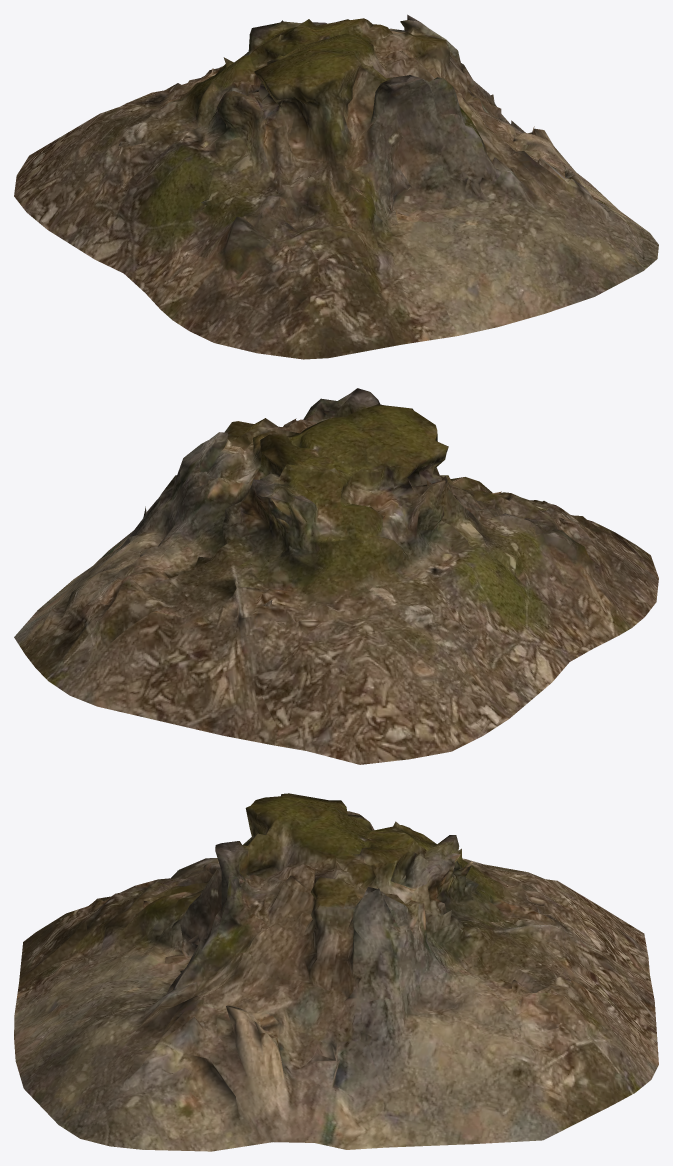
The model's file is tree_stump_01.glb.
The picture shows the model from 3 angles, top to bottom: view 1: azimuth 30°, elevation 25°; view 2: azimuth 150°, elevation 25°; view 3: azimuth 270°, elevation 25°; orthographic projection. The views are drawn at different scales.
Visible parts, largest first — view 1: tree_stump_01; view 2: tree_stump_01; view 3: tree_stump_01.
Part boxes in pixels (x1,y1,x2,y2): tree_stump_01: (14, 14, 658, 359); tree_stump_01: (14, 388, 658, 764); tree_stump_01: (14, 793, 658, 1151).
Bounding box in the file's own units: 1.43 × 0.571 × 1.59.
Materials: 1 (1 with a texture image).
